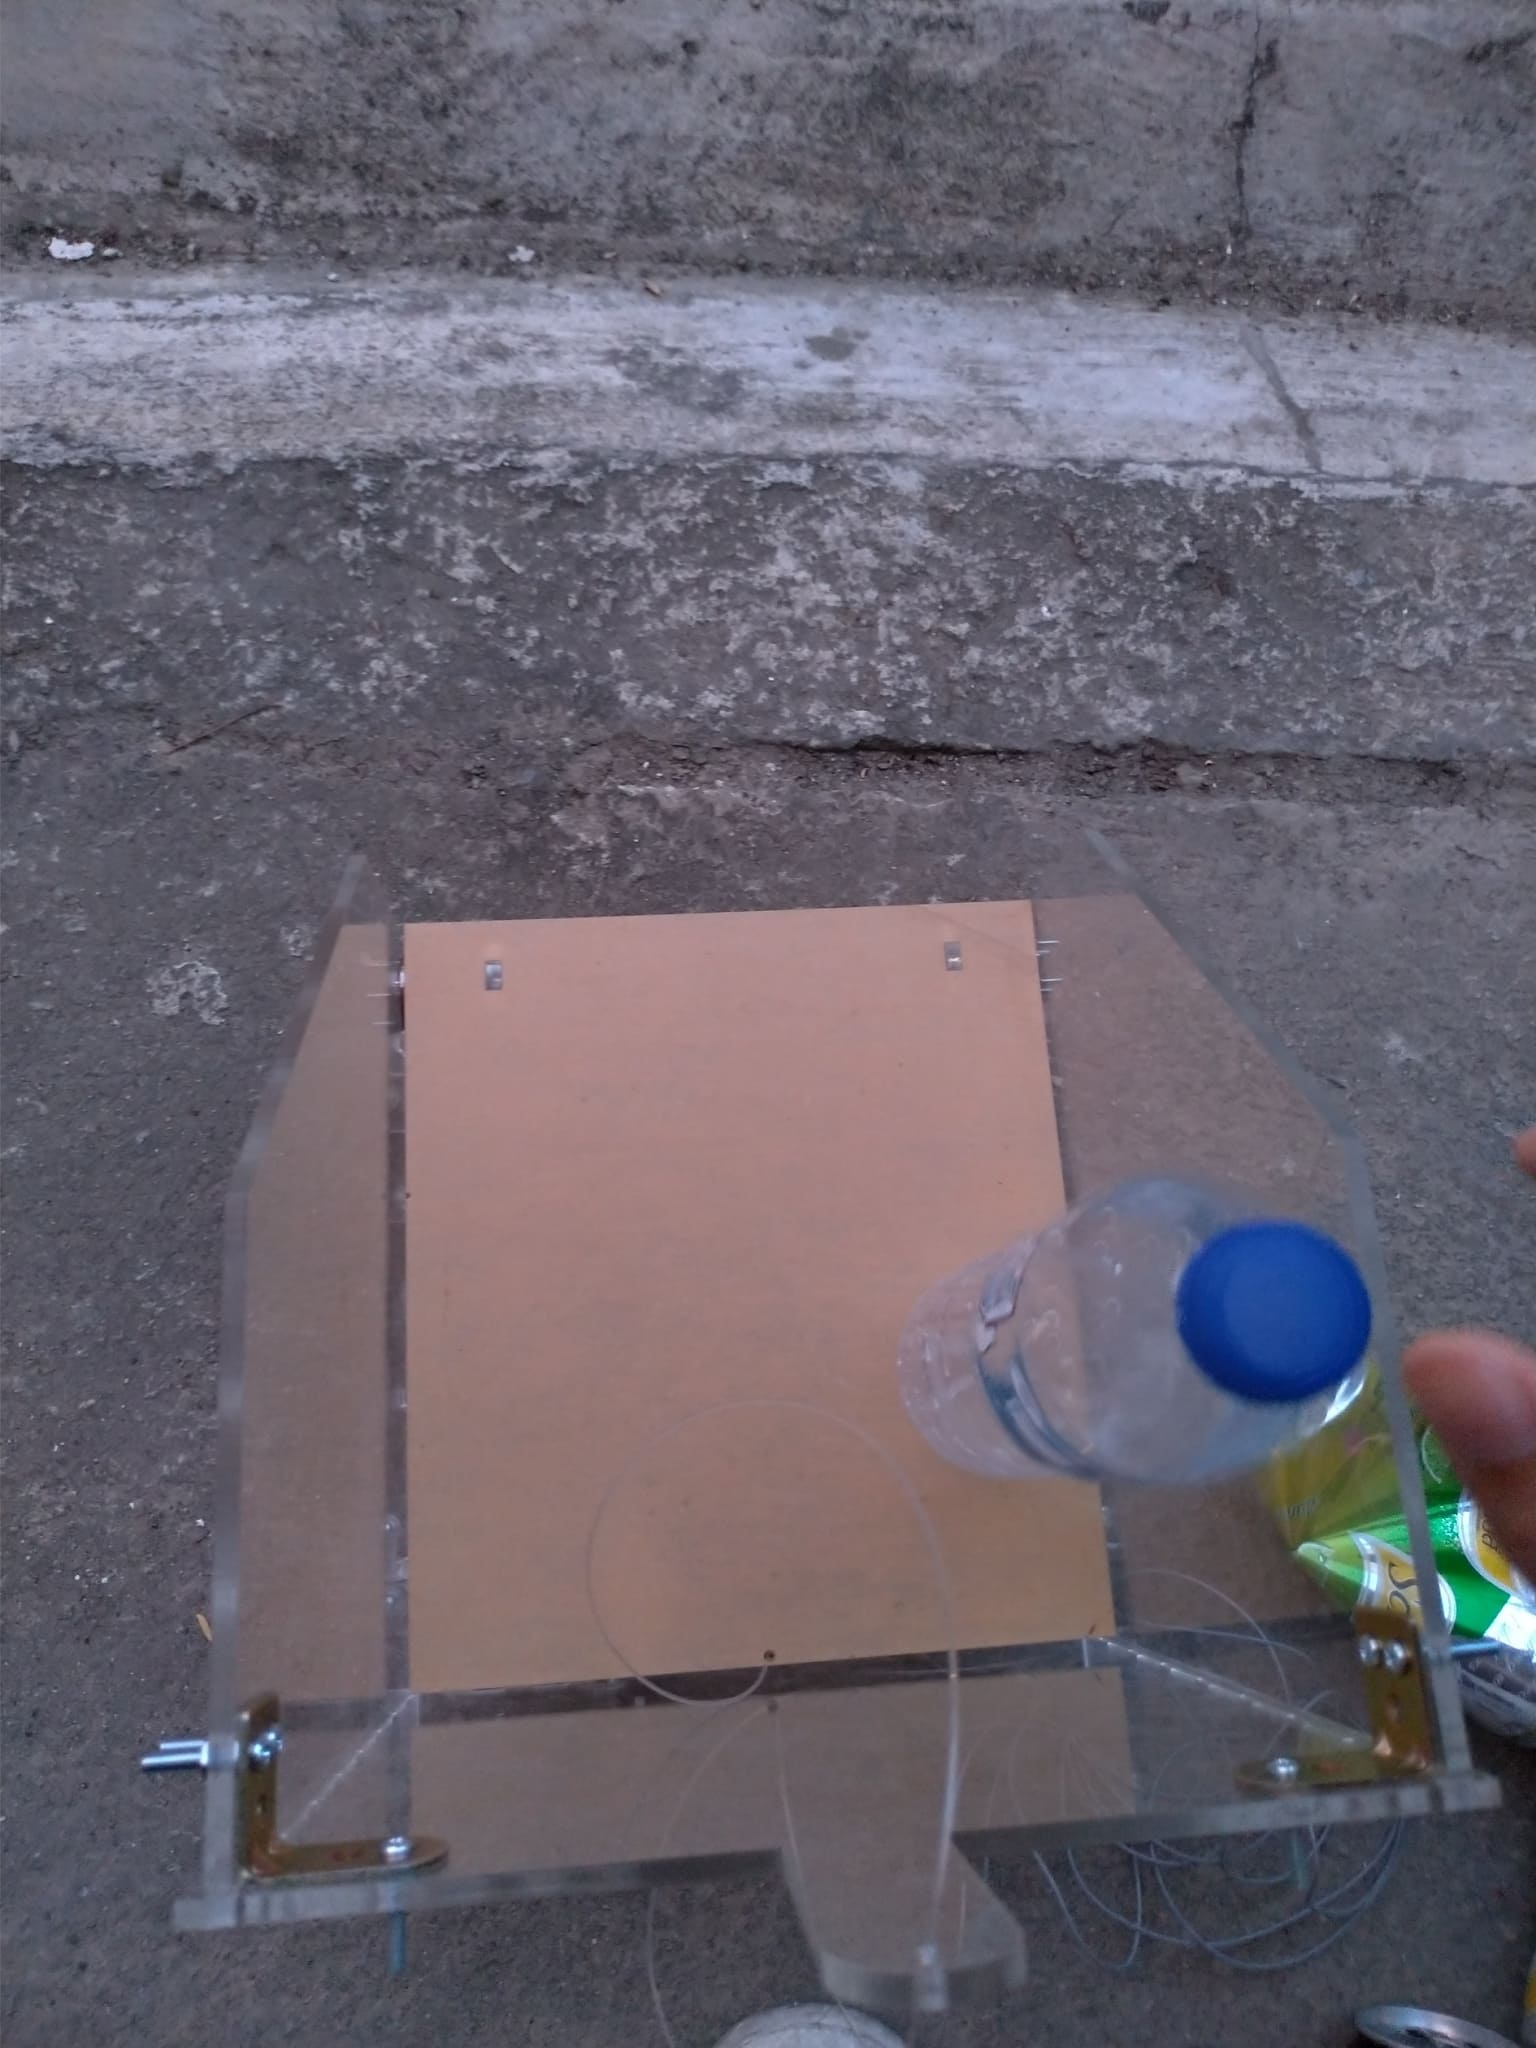AlCan: (1267, 1384, 1536, 1730)
PlasticBottle: (902, 1184, 1373, 1506)
